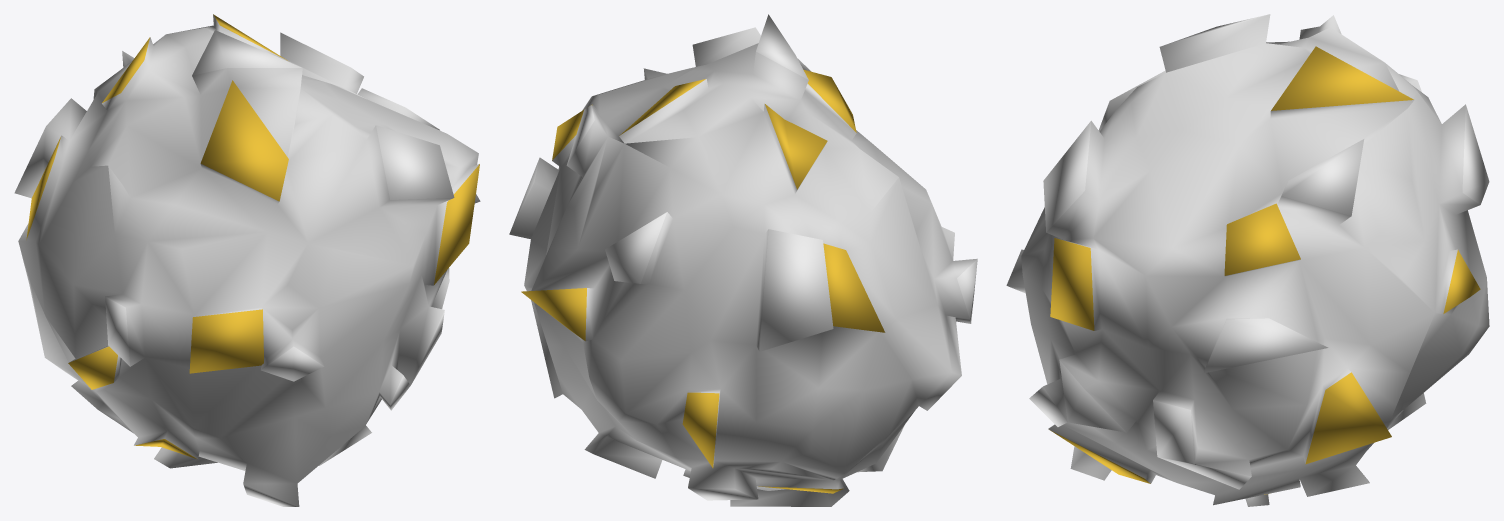
File: Planeta2.fbx
The picture shows the model from 3 angles, left to right: view 1: azimuth 30°, elevation 25°; view 2: azimuth 150°, elevation 25°; view 3: azimuth 270°, elevation 25°; orthographic projection. The views are drawn at different scales.
Visible parts, largest first — view 1: Icosphere.004; view 2: Icosphere.004; view 3: Icosphere.004.
Boxes of the visible parts, left/top/right/bottom form: Icosphere.004: left=14, top=14, right=480, bottom=506; Icosphere.004: left=509, top=14, right=977, bottom=506; Icosphere.004: left=1006, top=14, right=1489, bottom=506.
Size of the model in its own units: 237 by 240 by 220.
